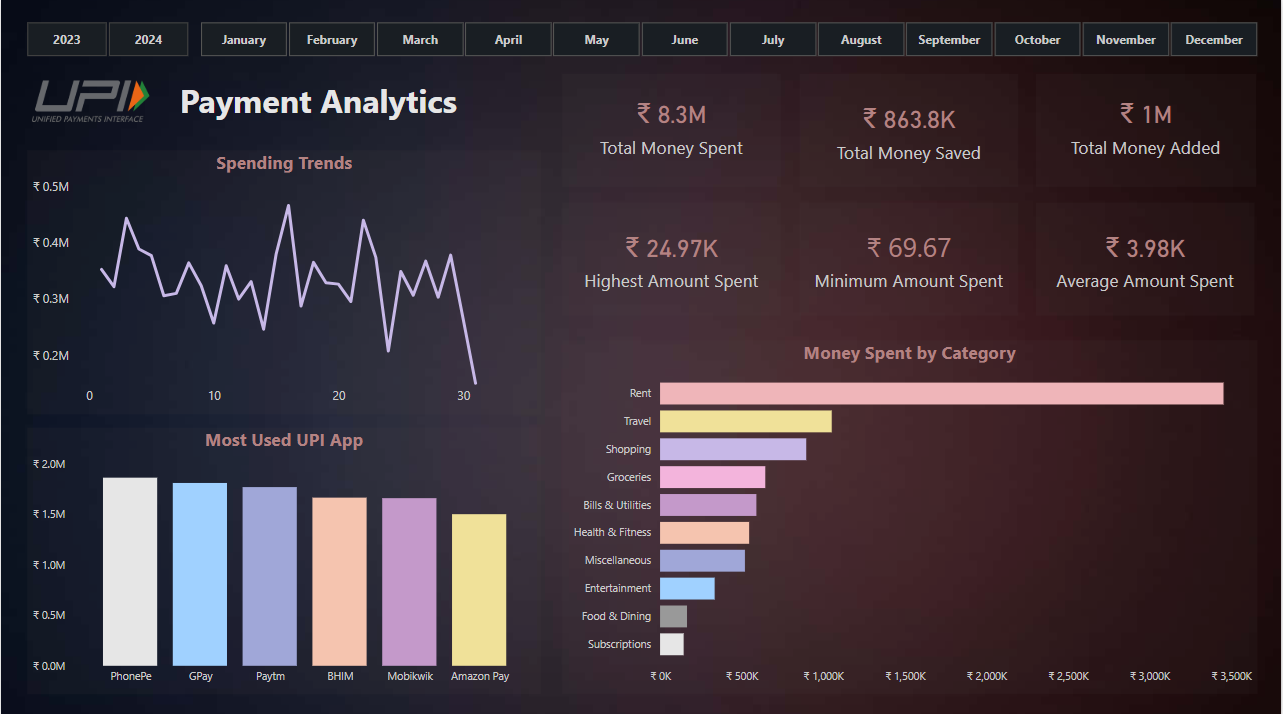

The page's visual inventory and layout, read from the dashboard file:
{"tool":"powerbi","page":{"name":"Main Page","canvas":[1280,720],"ordinal":0},"visuals":[{"type":"image","box":[26.2,75,127.5,53.8],"z":0},{"type":"textbox","box":[173.8,75,303.8,56.2],"z":1000},{"type":"card","fields":{"Values":["Sum(Final_Dataset_Updated.Amount)"]},"box":[561.2,75,218.8,112.5],"z":2000},{"type":"card","fields":{"Values":["Sum(Final_Dataset_Updated.Amount)"]},"box":[1035,75,220,112.5],"z":3000},{"type":"card","fields":{"Values":["Sum(Final_Dataset_Updated.Amount)"]},"box":[798.8,75,218.8,112.5],"z":4000},{"type":"slicer","fields":{"Values":["Final_Dataset_Updated.Year"]},"box":[0,16.2,211.2,47.5],"z":5000},{"type":"slicer","fields":{"Values":["Final_Dataset_Updated.Month"]},"box":[173.8,16.2,1106.2,47.5],"z":6000},{"type":"barChart","title":"Money Spent by Category","fields":{"Category":["Final_Dataset_Updated.Category"],"Y":["Sum(Final_Dataset_Updated.Amount)"]},"box":[561.2,341.2,695,353.8],"z":7000},{"type":"card","fields":{"Values":["Max(Final_Dataset_Updated.Amount)"]},"box":[561.2,203.8,218.8,112.5],"z":8000},{"type":"card","fields":{"Values":["Min(Final_Dataset_Updated.Amount)"]},"box":[798.8,203.8,218.8,112.5],"z":9000},{"type":"card","fields":{"Values":["Avg(Final_Dataset_Updated.Amount)"]},"box":[1035,203.8,218.8,112.5],"z":10000},{"type":"clusteredColumnChart","title":"Most Used UPI App","fields":{"Category":["Final_Dataset_Updated.Payment_Mode"],"Y":["Sum(Final_Dataset_Updated.Amount)"]},"box":[26.2,428.8,513.8,266.2],"z":11000},{"type":"lineChart","title":"Spending Trends","fields":{"Category":["Final_Dataset_Updated.Date.Variation.Date Hierarchy.Day"],"Y":["Sum(Final_Dataset_Updated.Amount)"]},"box":[26.2,151.2,513.8,263.8],"z":12000}]}

Visuals, with their boxes in screenshot pixels (x1, y1, x2, y2), scaled from the page's 1280x720 canvas onto the 1283x714 screenshot:
image: l=26, t=74, r=154, b=128
textbox: l=174, t=74, r=479, b=130
card - Sum(Final_Dataset_Updated.Amount): l=563, t=74, r=782, b=186
card - Sum(Final_Dataset_Updated.Amount): l=1037, t=74, r=1258, b=186
card - Sum(Final_Dataset_Updated.Amount): l=801, t=74, r=1020, b=186
slicer - Final_Dataset_Updated.Year: l=0, t=16, r=212, b=63
slicer - Final_Dataset_Updated.Month: l=174, t=16, r=1282, b=63
"Money Spent by Category" barChart: l=563, t=338, r=1259, b=689
card - Max(Final_Dataset_Updated.Amount): l=563, t=202, r=782, b=314
card - Min(Final_Dataset_Updated.Amount): l=801, t=202, r=1020, b=314
card - Avg(Final_Dataset_Updated.Amount): l=1037, t=202, r=1257, b=314
"Most Used UPI App" clusteredColumnChart: l=26, t=425, r=541, b=689
"Spending Trends" lineChart: l=26, t=150, r=541, b=412
